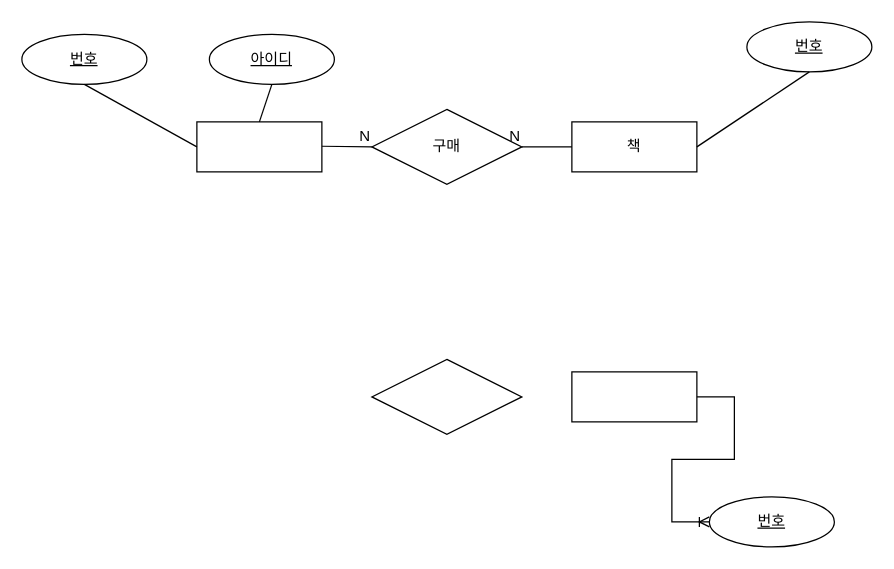
This 894x569 diagram has some shape labels left out. Each missing label, with the box of its shape:
고객: (196, 121, 322, 172)
작성: (371, 358, 522, 434)
책이미지: (571, 371, 697, 422)
